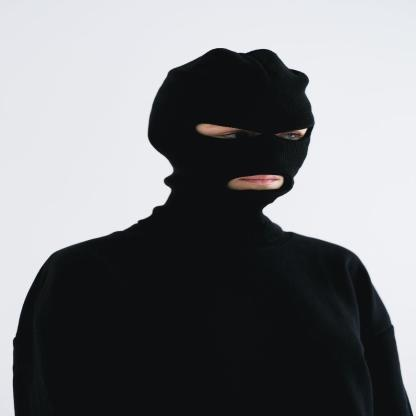criminal: (12, 47, 415, 416)
